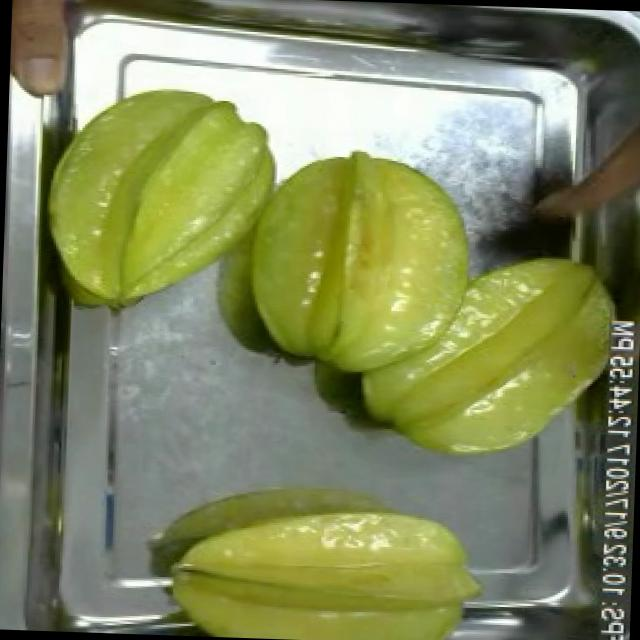fruit: (342, 239, 628, 477), (229, 137, 487, 392), (32, 70, 286, 327), (152, 472, 492, 640), (7, 0, 83, 107)
